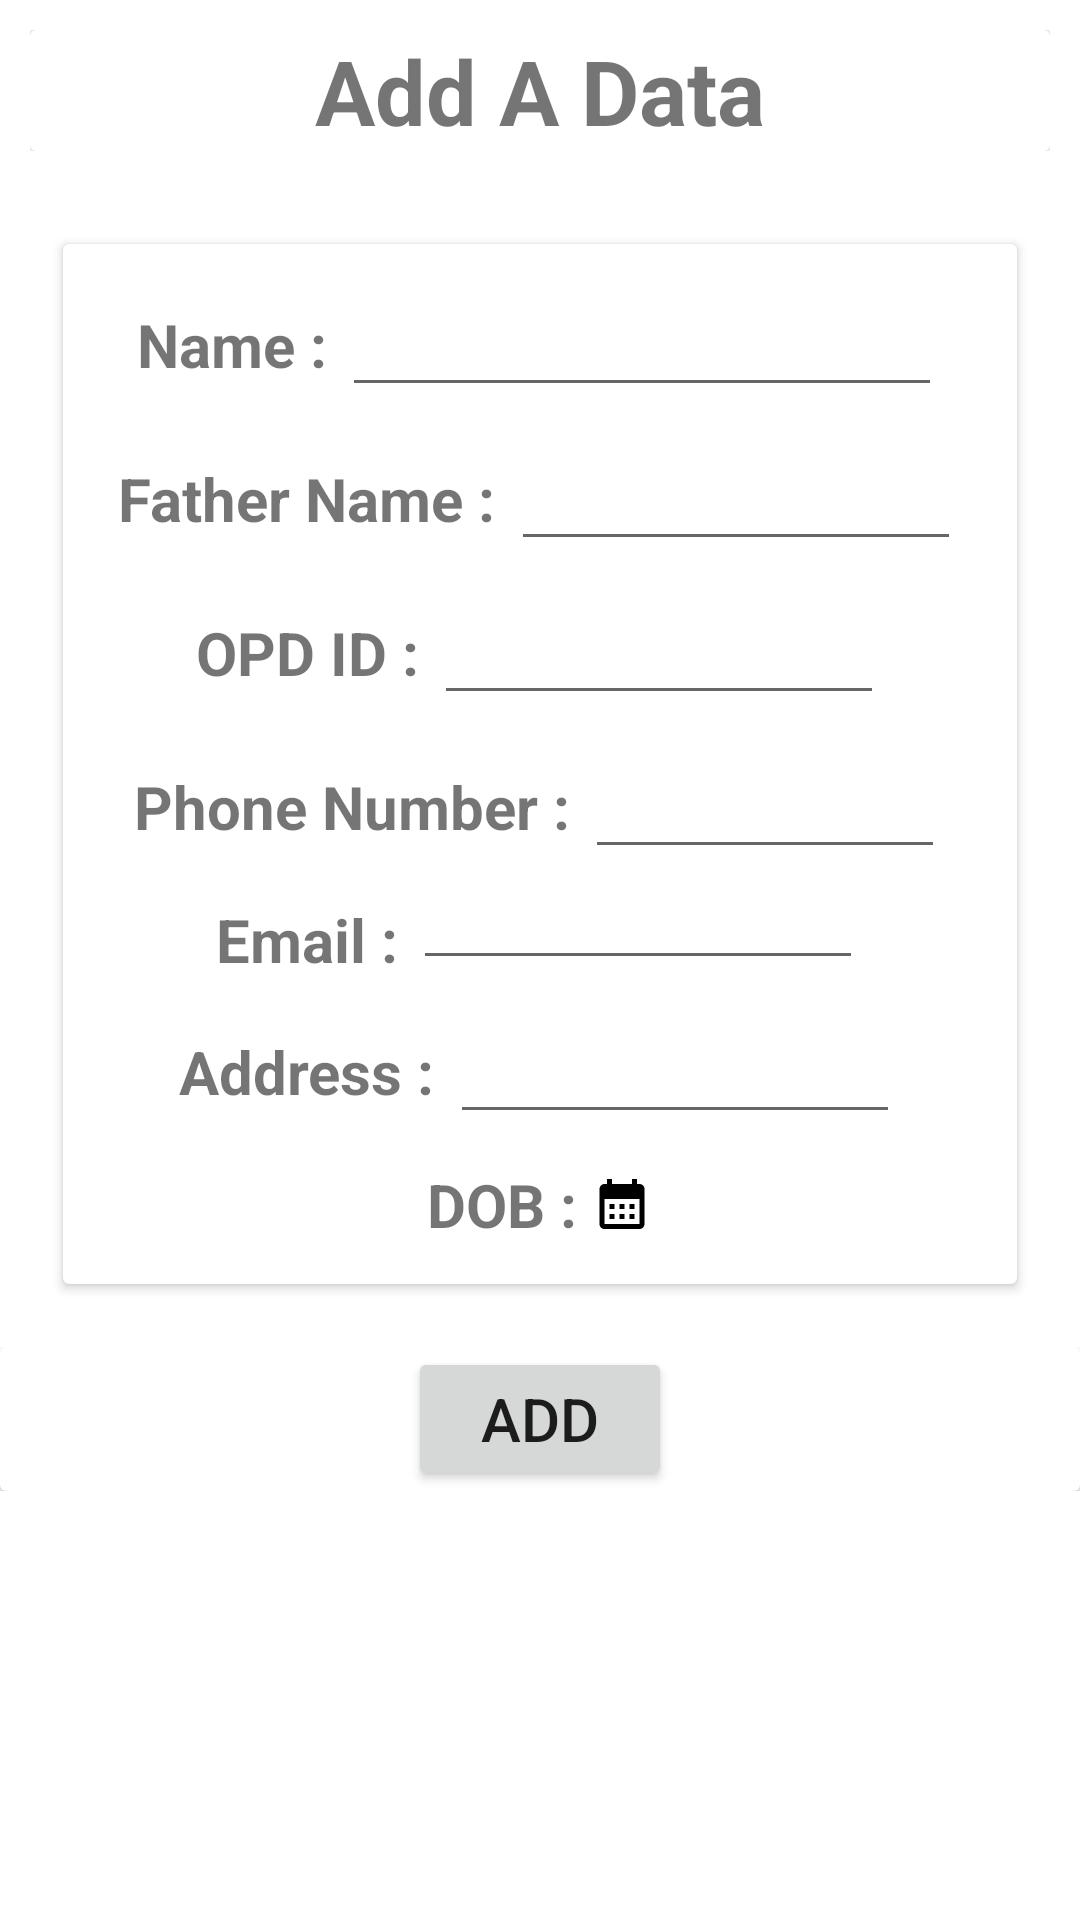

Point at icon controls on the screen. Image size 1080px x 1920px, points as (x=x, y=y).
calender: (x=622, y=1204)
